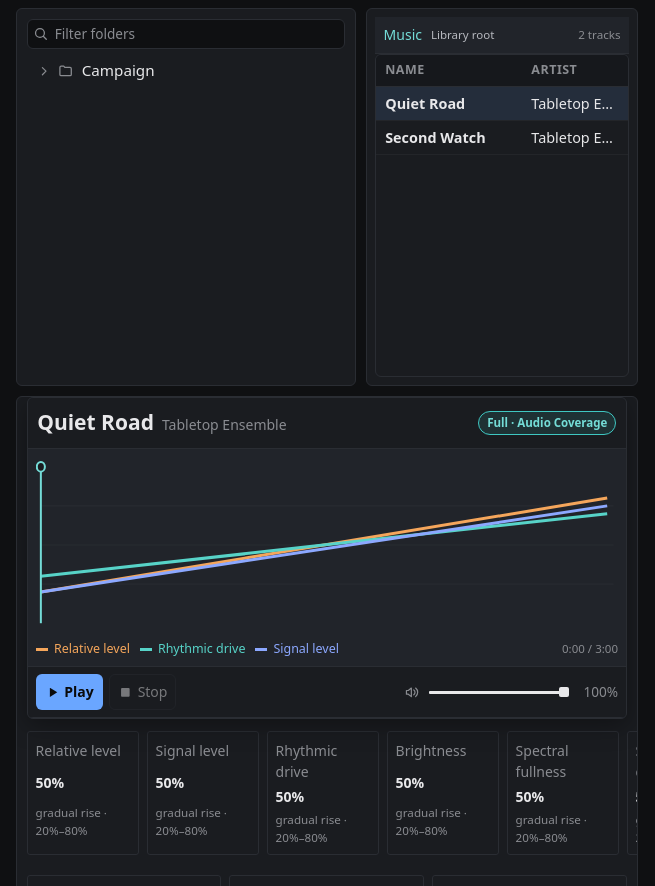
LibraryContextView › keeps the playback panel compact and resets detail scrolling for a new track
The width and height of the screenshot is (655, 886).
Expected: the heading "Quiet Road" is shown, top-left (37, 407), bottom-right (154, 439)
Click the text "Second Watch": (435,137) top-left (385, 128), bottom-right (486, 147)
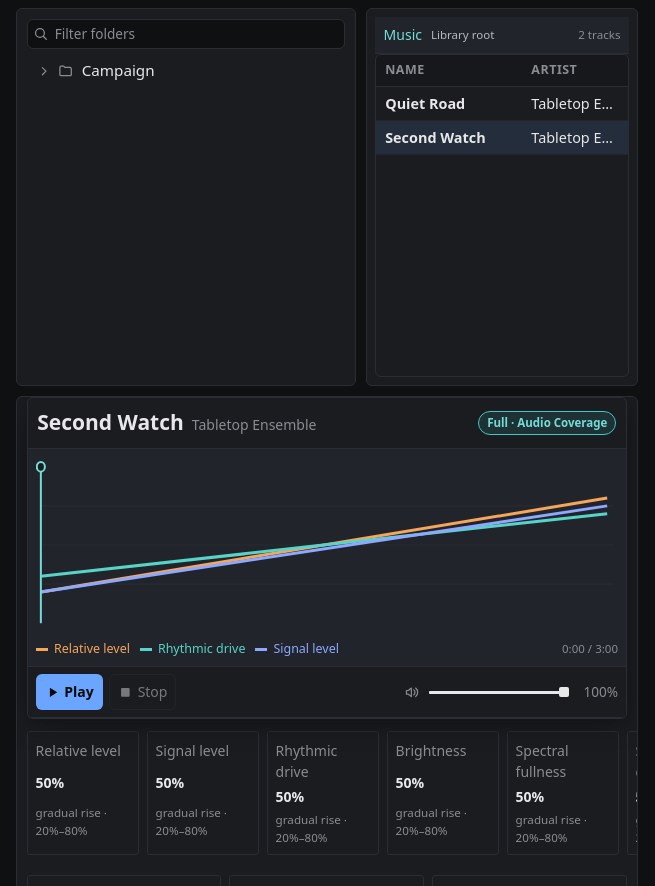
Now the heading "Second Watch" is shown, box top-left (37, 407), bottom-right (184, 439)
